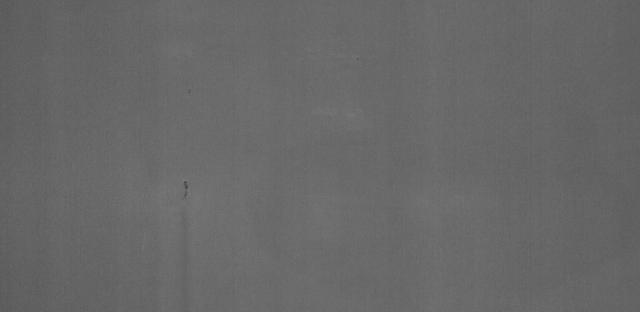inclusion: (171, 172, 198, 207)
